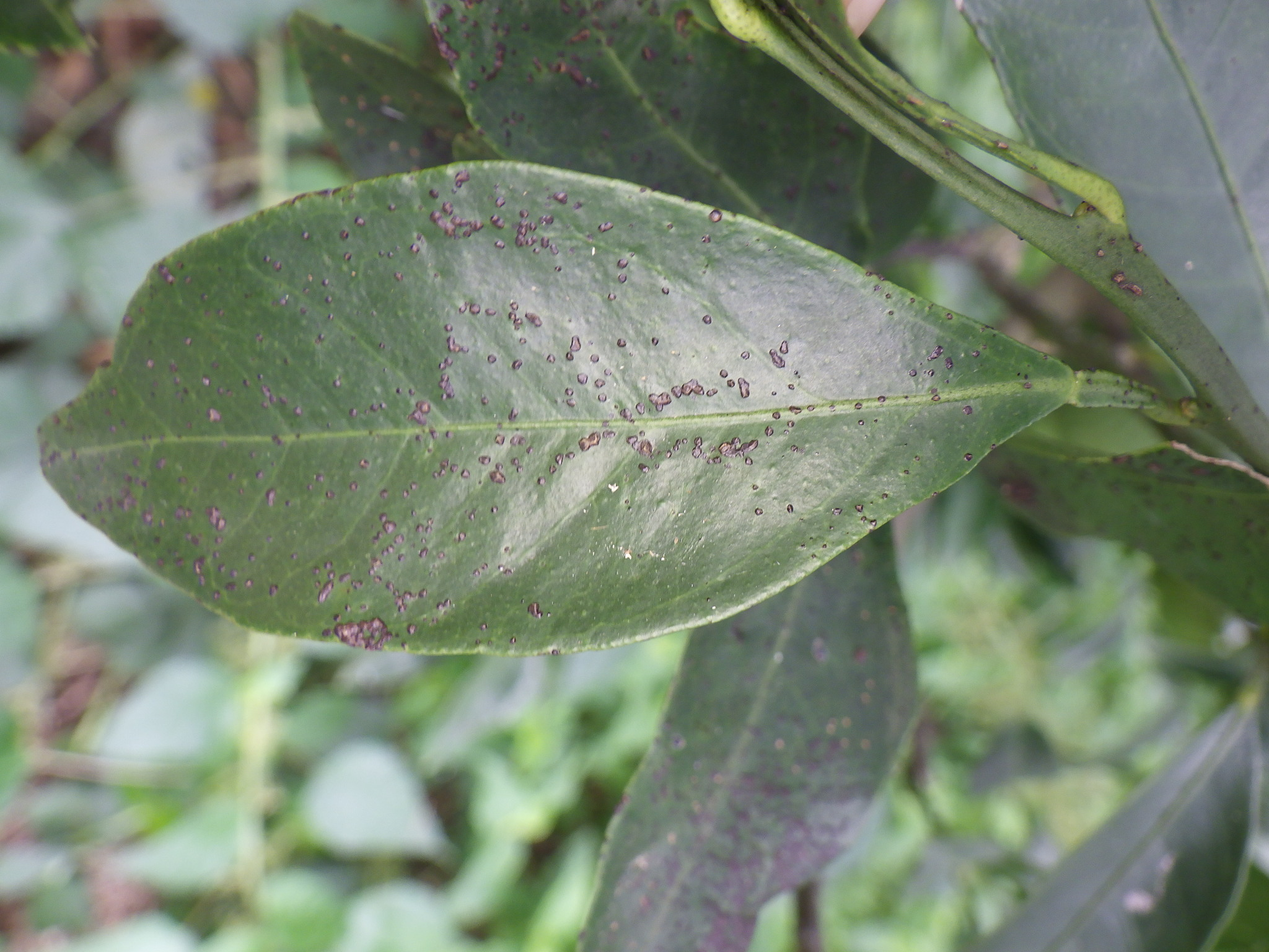Black_Spot: (40, 162, 1082, 654)
